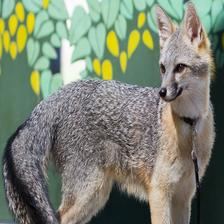fox: (2, 0, 224, 224)
